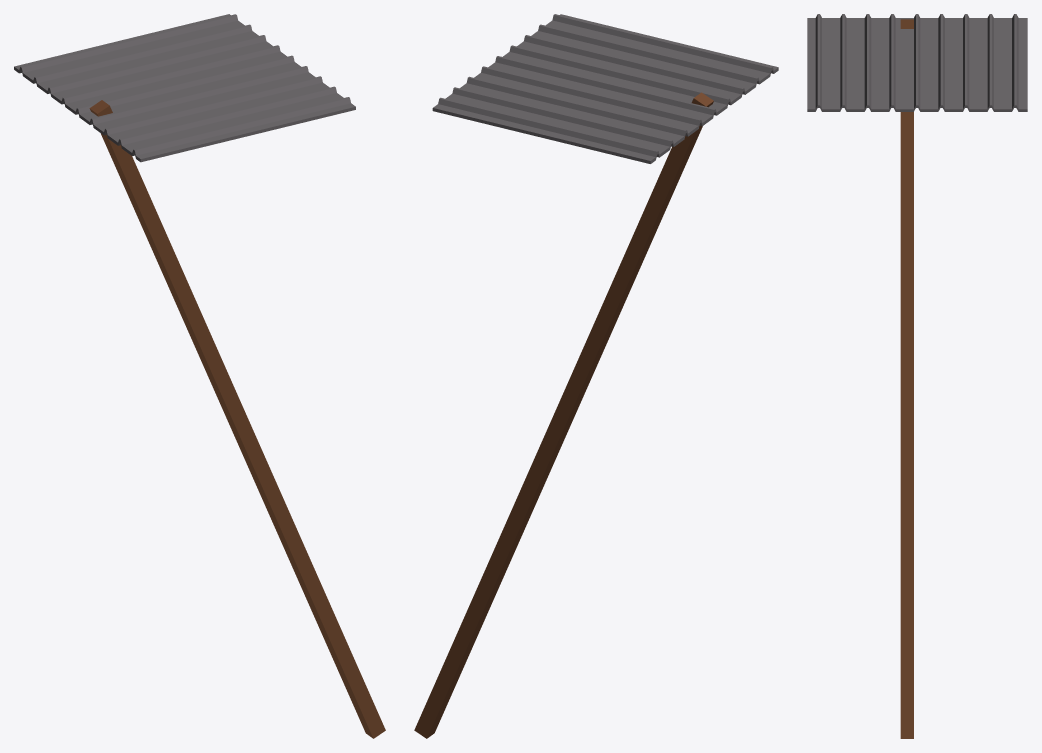
3 renders of one model, left to right at view 1: azimuth 30°, elevation 25°; view 2: azimuth 150°, elevation 25°; view 3: azimuth 270°, elevation 25°, orthographic. The views are drawn at different scales.
Visible parts, largest first — view 1: Yero, Part; view 2: Yero, Part; view 3: Yero, Part.
Part boxes in pixels (x1,y1,x2,y2): Yero: [14, 14, 355, 162]; Part: [89, 100, 385, 738]; Yero: [432, 14, 778, 163]; Part: [414, 92, 713, 738]; Yero: [807, 14, 1027, 111]; Part: [900, 19, 913, 738].
Bounding box in the file's own units: 7.06 × 15.74 × 5.18.
